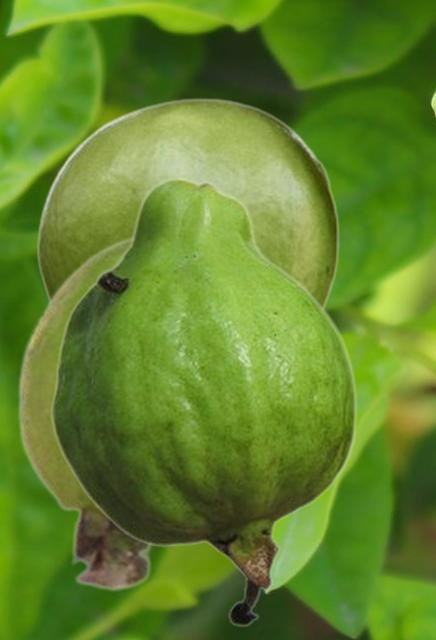guava: (49, 176, 356, 626), (36, 97, 339, 309), (17, 233, 154, 591)
